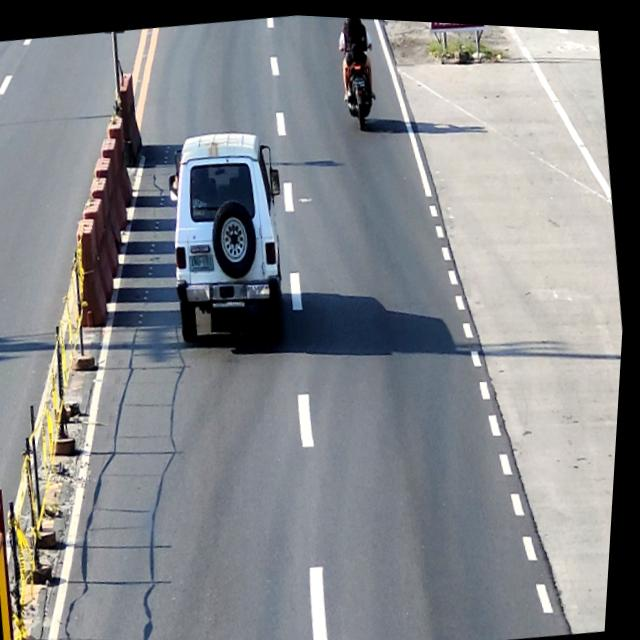Car: (157, 121, 307, 353)
License-Plate: (190, 250, 218, 273), (353, 73, 366, 84)
Motorcycle: (334, 30, 385, 132)
